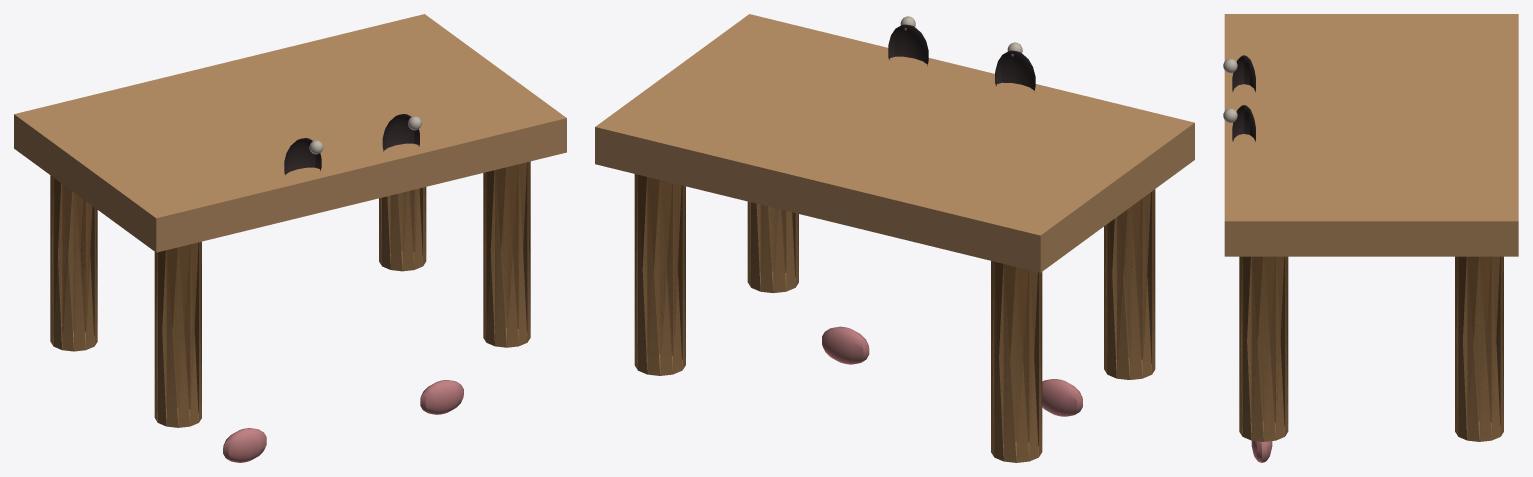
3 views of the same model, side by side, from view 1: azimuth 30°, elevation 25°; view 2: azimuth 150°, elevation 25°; view 3: azimuth 270°, elevation 25° (orthographic). The views are drawn at different scales.
Parts seen in each view (by area): view 1: pet_p5d258c61; view 2: pet_p5d258c61; view 3: pet_p5d258c61.
Part boxes in pixels (x1,y1,x2,y2): pet_p5d258c61: (14,14,566,462); pet_p5d258c61: (595,14,1194,462); pet_p5d258c61: (1223,14,1518,462).
Size of the model in its own units: 0.5 by 0.3704 by 0.3014.
